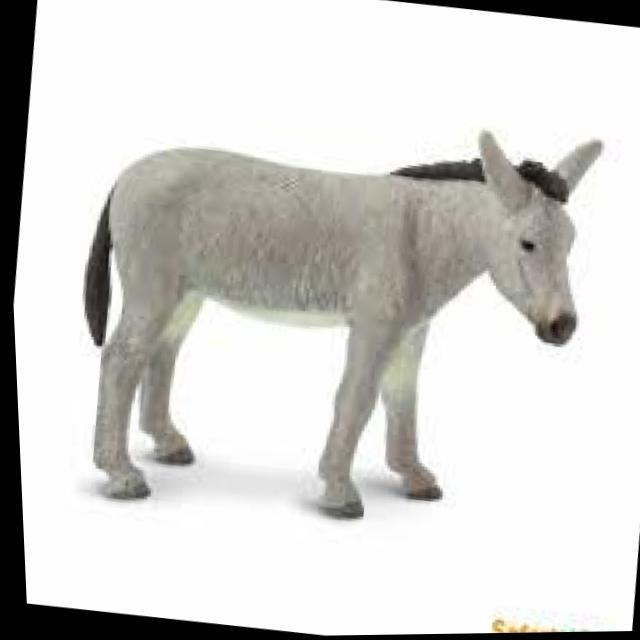Donkey: (56, 81, 597, 559)
